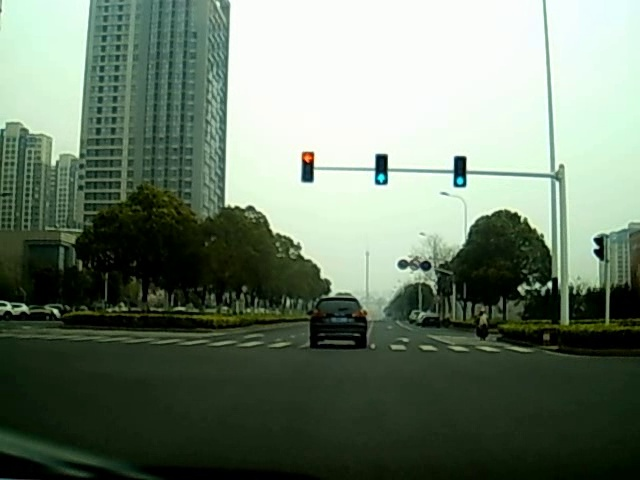Traffic_Light_go: (455, 156, 466, 187), (375, 155, 386, 184)
Traffic_Light_stop: (301, 152, 314, 184)
